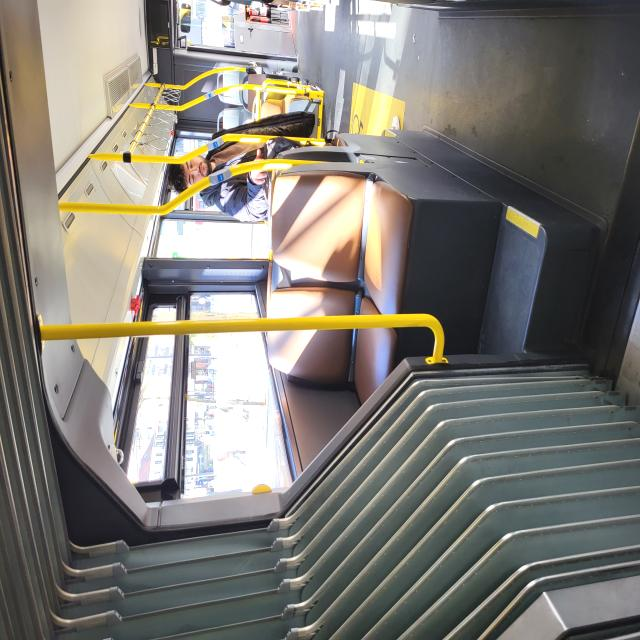asiento-libre: (242, 360, 352, 553), (174, 356, 264, 530), (388, 344, 411, 418), (394, 319, 426, 359)
